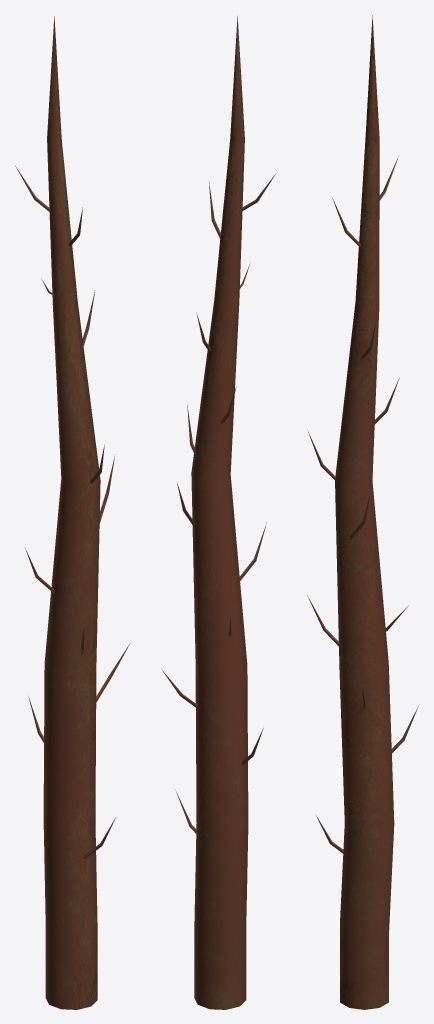
File: Tree.fbx
3 views of the same model, side by side, from view 1: azimuth 30°, elevation 25°; view 2: azimuth 210°, elevation 25°; view 3: azimuth 270°, elevation 25° (orthographic).
Parts seen in each view (by area): view 1: pCylinder1; view 2: pCylinder1; view 3: pCylinder1.
Part boxes in pixels (left/top/right/bottom): pCylinder1: left=43, top=16, right=100, bottom=1009; pCylinder1: left=191, top=16, right=248, bottom=1009; pCylinder1: left=335, top=15, right=394, bottom=1009.
Bounding box in the file's own units: 2.92 × 25.68 × 2.7.
